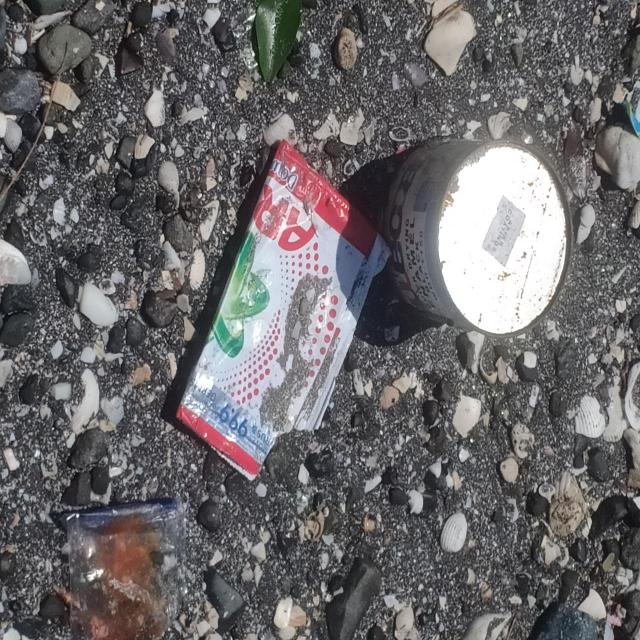metal_waste: (380, 134, 574, 340)
plastic_waste: (175, 141, 389, 483)
